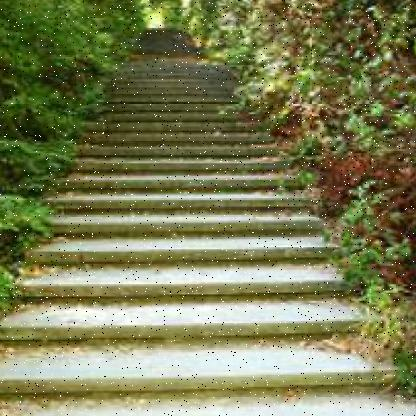stair_up: (10, 194, 374, 383)
